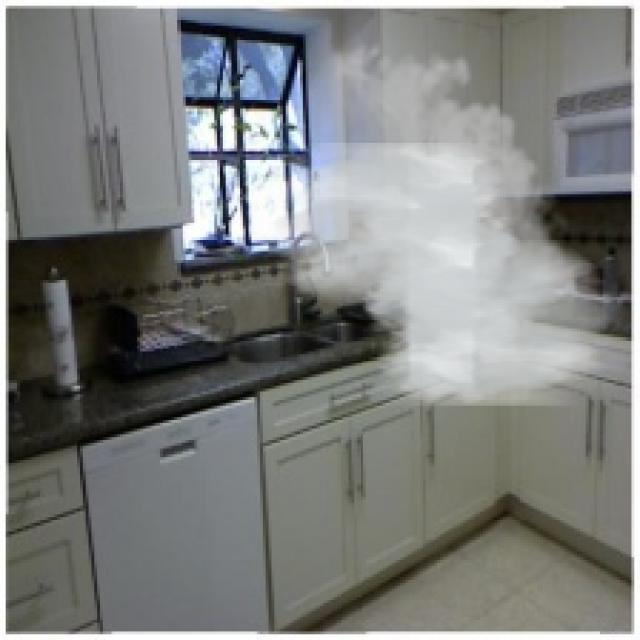Smoke: (252, 31, 632, 406)
